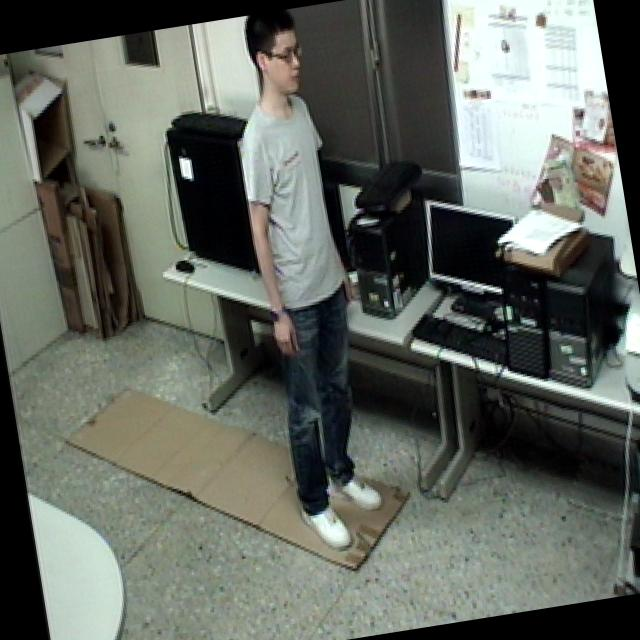stand: (207, 0, 404, 562)
